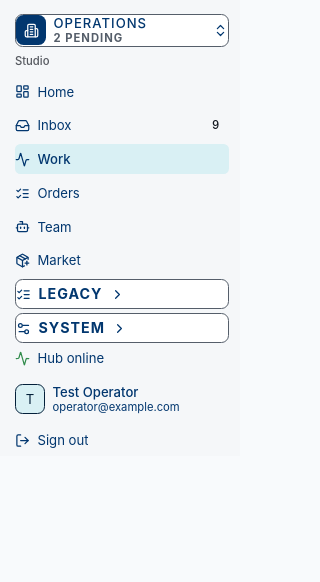
Scenario: renders Legacy collapsed above System and expands to canonical bridge links
Step 1. Click the button "Legacy" → x=122, y=294, box [15,279,229,309]
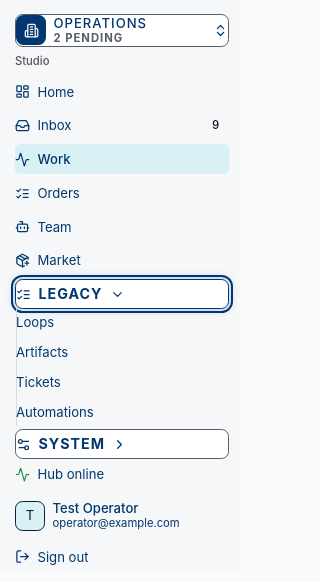
Check: the button "Legacy" is expanded, box [15,279,229,309]
Check: the link "Loops" is shown, box [16,314,54,330]
Check: the link "Artifacts" is shown, box [16,344,68,360]
